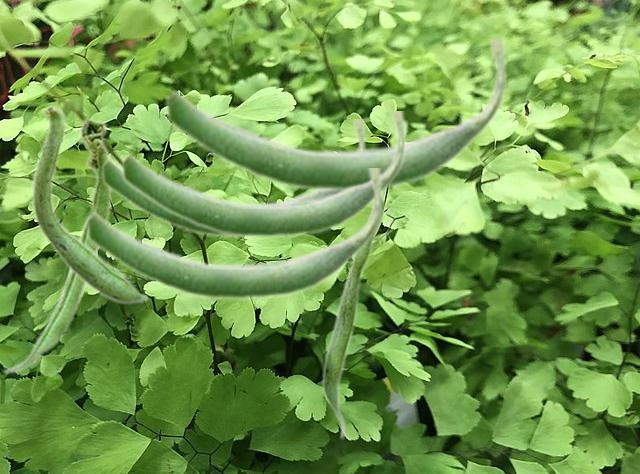french_bean: (164, 39, 507, 193), (85, 168, 383, 301), (120, 111, 406, 239), (100, 119, 366, 238), (1, 116, 111, 374), (31, 103, 148, 304), (321, 194, 385, 440)
